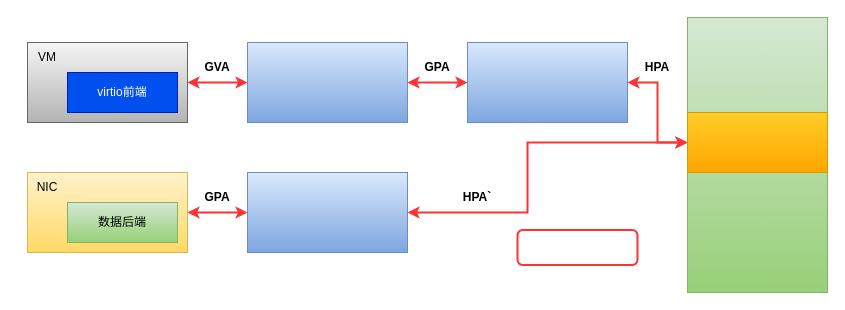
This 845x310 diagram has some shape labels left out. The shapes that lost their labels are listed below. From the top down, each one's centre as x and y in pixels, then its label:
pixel 757 142: EPT
pixel 577 247: 保证HPA=HPA`
